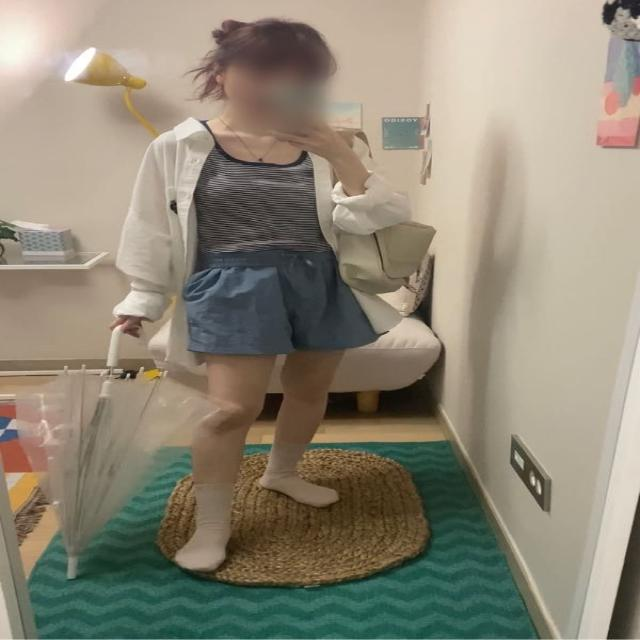shirt: (107, 107, 407, 321)
shortpants: (188, 247, 377, 353)
